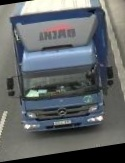truck: (0, 0, 122, 140)
